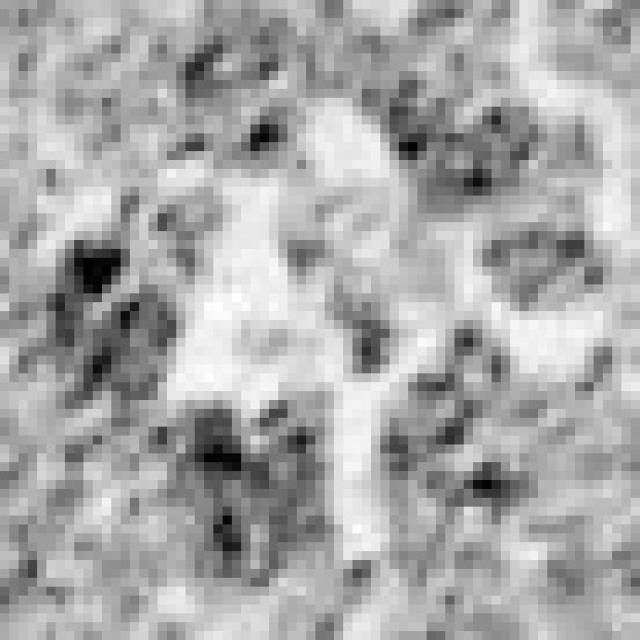inner: (265, 162, 454, 389)
lobe: (381, 320, 556, 529), (149, 397, 330, 595), (367, 53, 554, 207), (32, 235, 191, 405), (167, 35, 312, 178), (478, 220, 609, 316)
outer: (0, 0, 640, 640)
